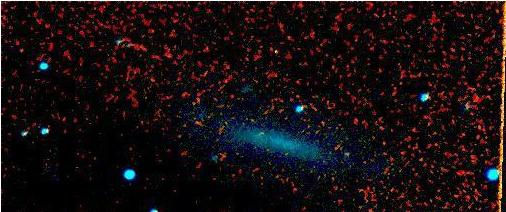star: (5, 32, 35, 62)
